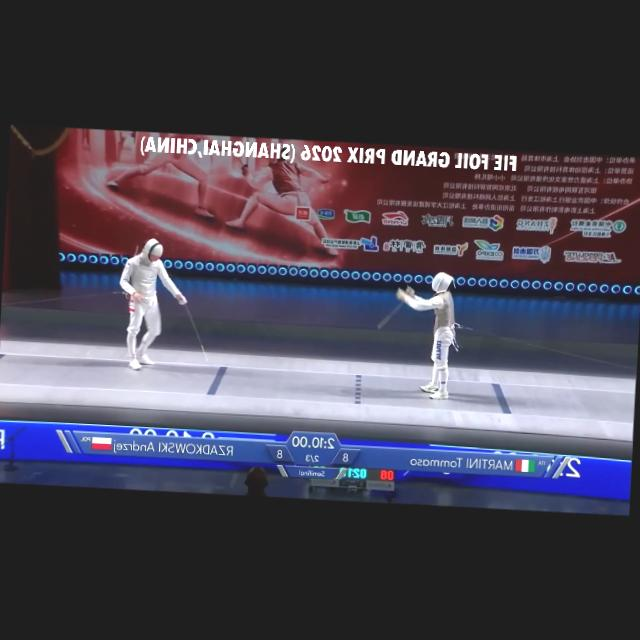blade: (175, 294, 219, 368), (374, 288, 415, 334)
